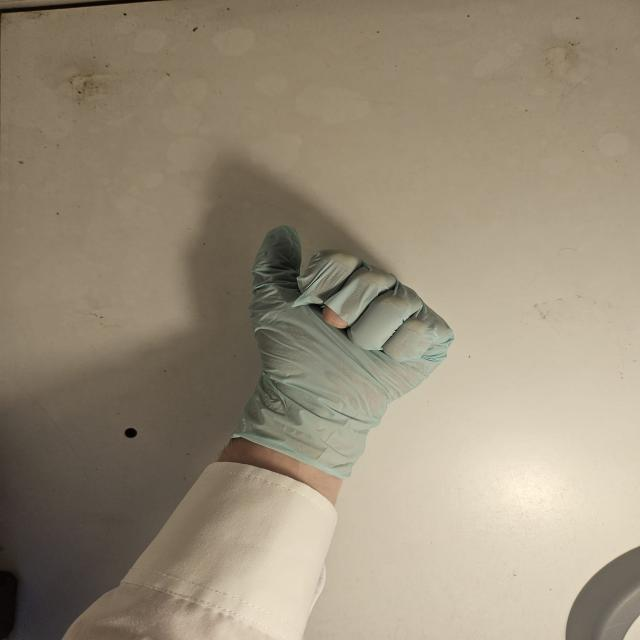gloves_damaged: (230, 222, 458, 486)
